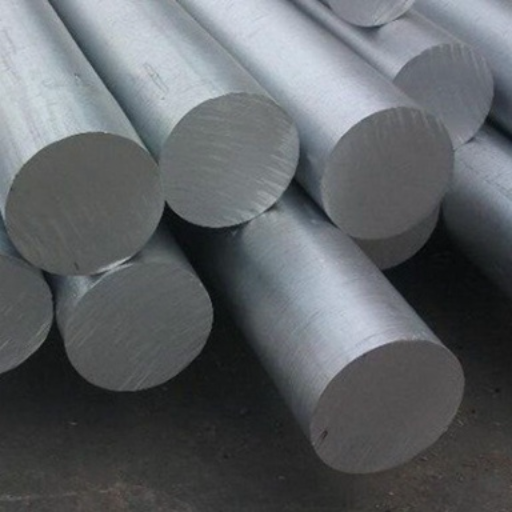Circle: (7, 135, 160, 275), (312, 343, 461, 475), (160, 93, 299, 226), (65, 265, 211, 390), (323, 108, 451, 238), (393, 45, 492, 147), (0, 259, 51, 368), (332, 0, 410, 24)
